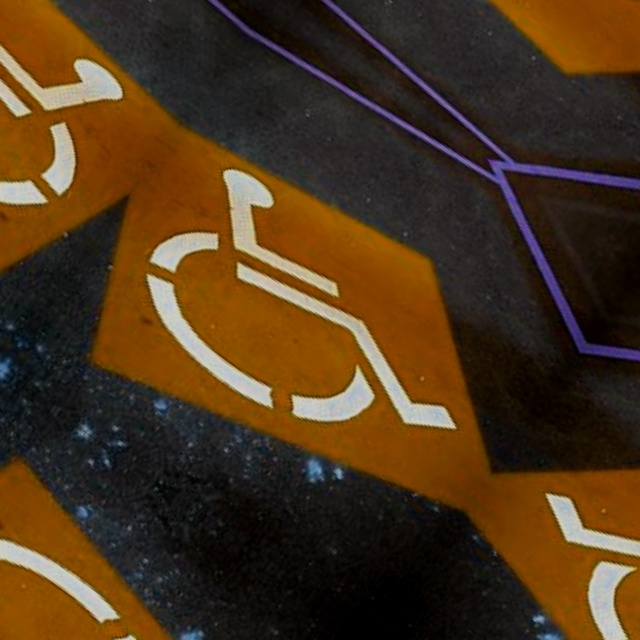ISA: (102, 147, 508, 513), (0, 490, 258, 640), (0, 0, 147, 251), (483, 424, 640, 640), (392, 0, 640, 116)
